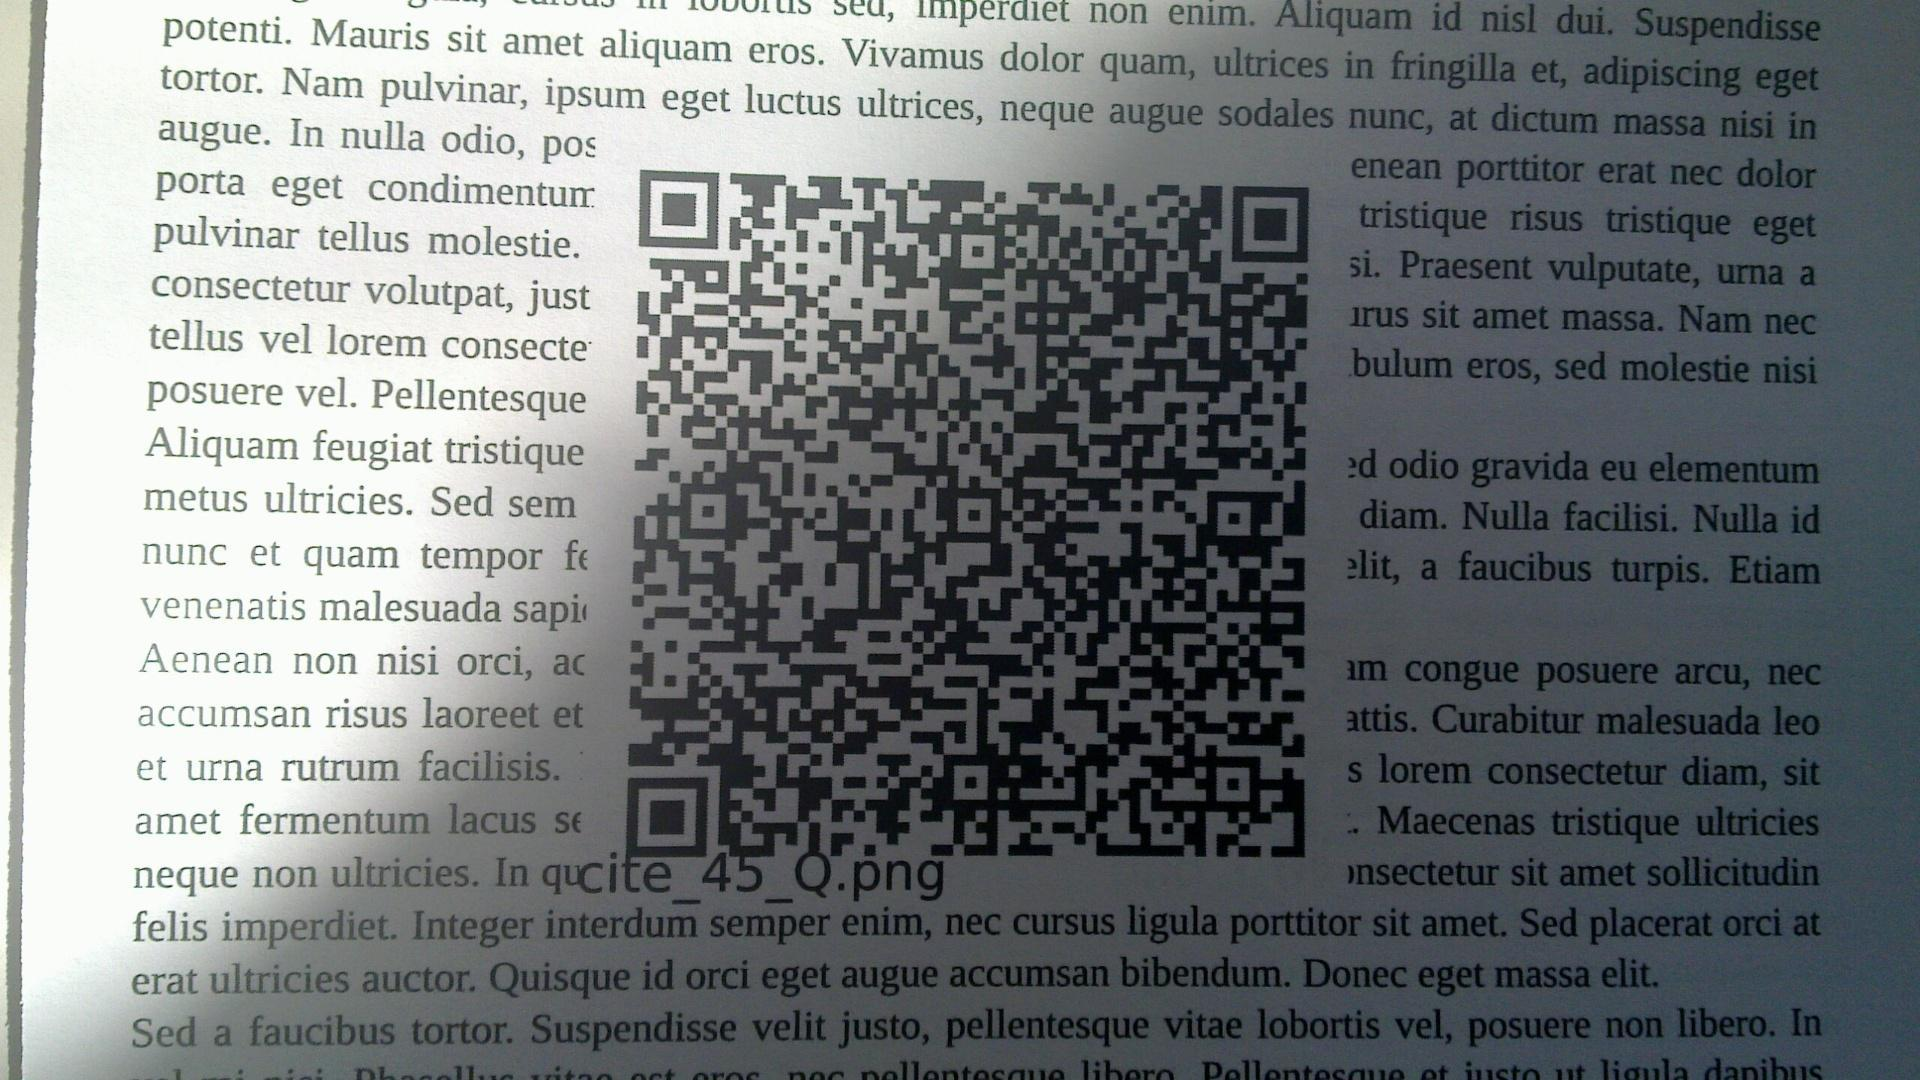Finder pattern: (633, 164, 727, 253), (621, 771, 712, 862), (1226, 182, 1313, 268)
